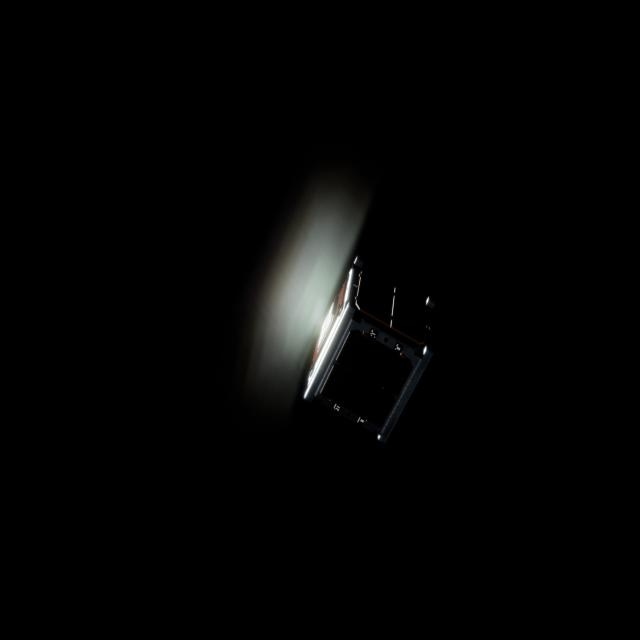satellite: (294, 247, 451, 453)
